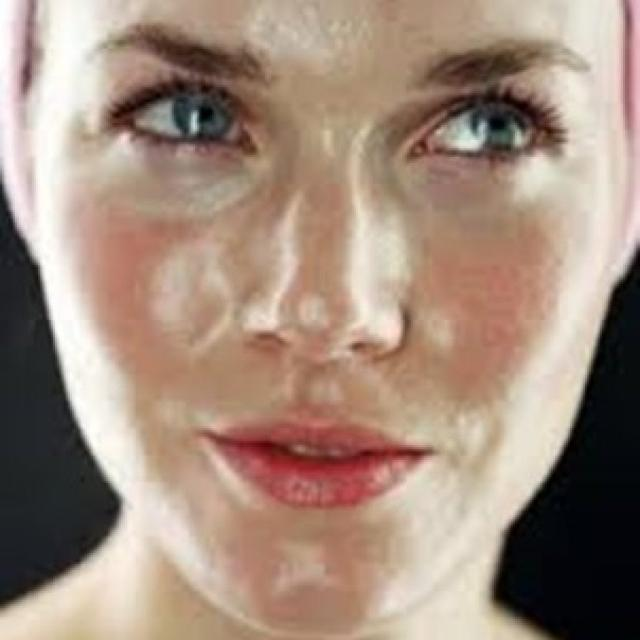Oily-Skin: (345, 118, 411, 360), (105, 133, 268, 220), (158, 400, 267, 517), (147, 234, 235, 364), (242, 181, 304, 346), (248, 5, 382, 74), (279, 539, 325, 601), (417, 309, 457, 354), (298, 290, 334, 335), (314, 114, 340, 156), (310, 377, 342, 406)
